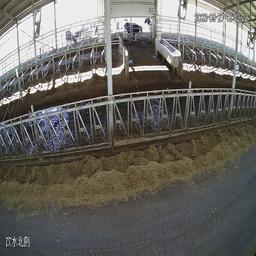cow: (121, 20, 144, 45)
